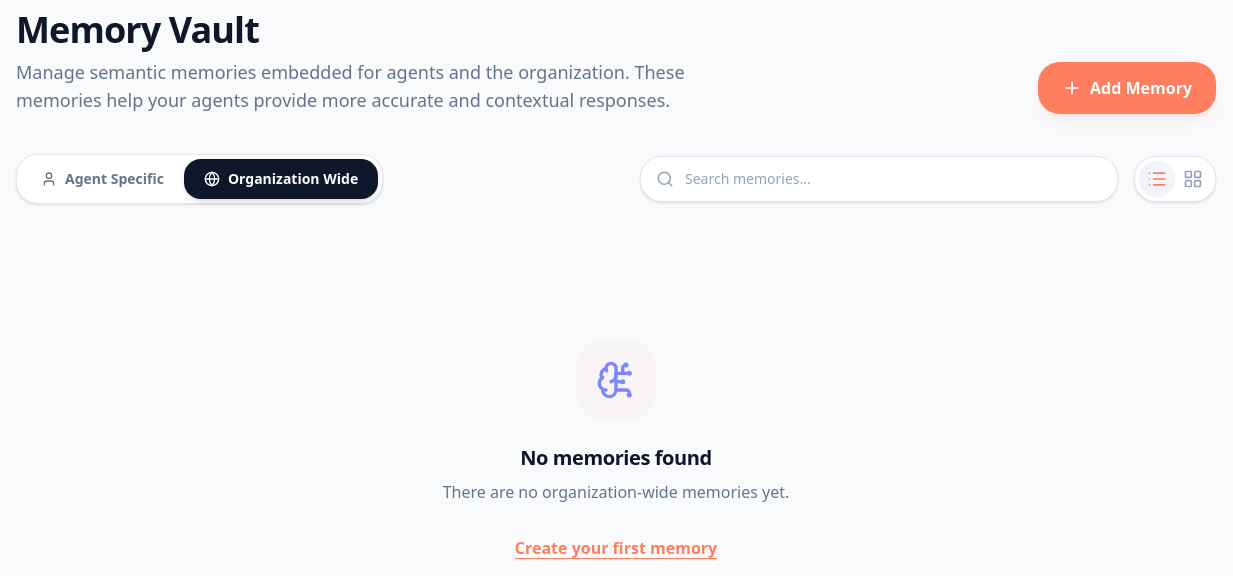
the memory vault page › the empty state › explains an empty agent scope differently
Expected: the heading "No memories found" is shown, [520,444,712,472]
Click the button "Agent Specific". click: coordinates (102, 179)
box: [21,159,184,199]
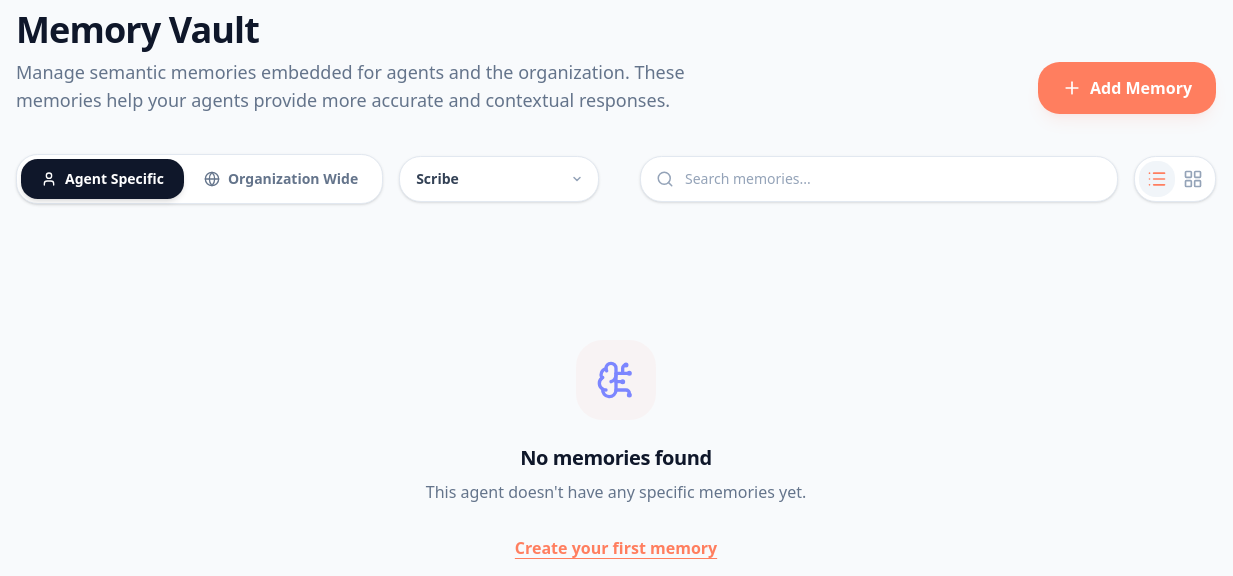
Now the text "This agent doesn't have any specific memories yet." is shown, box [426,480,806,504]
